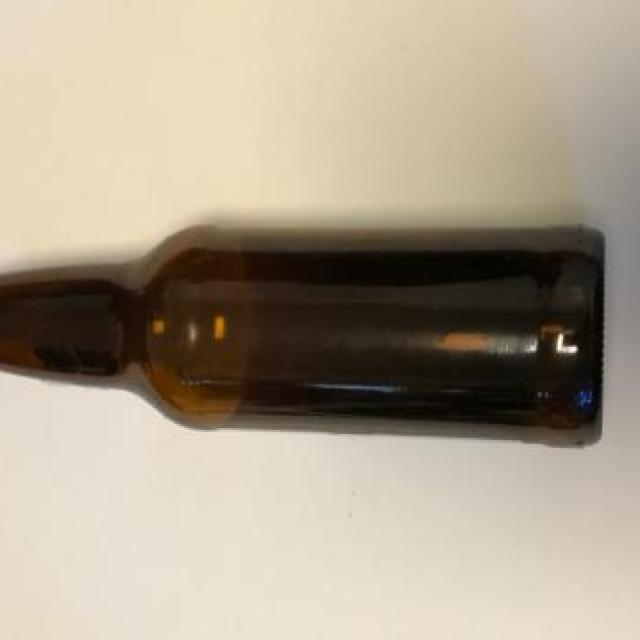organic: (7, 202, 617, 472)
